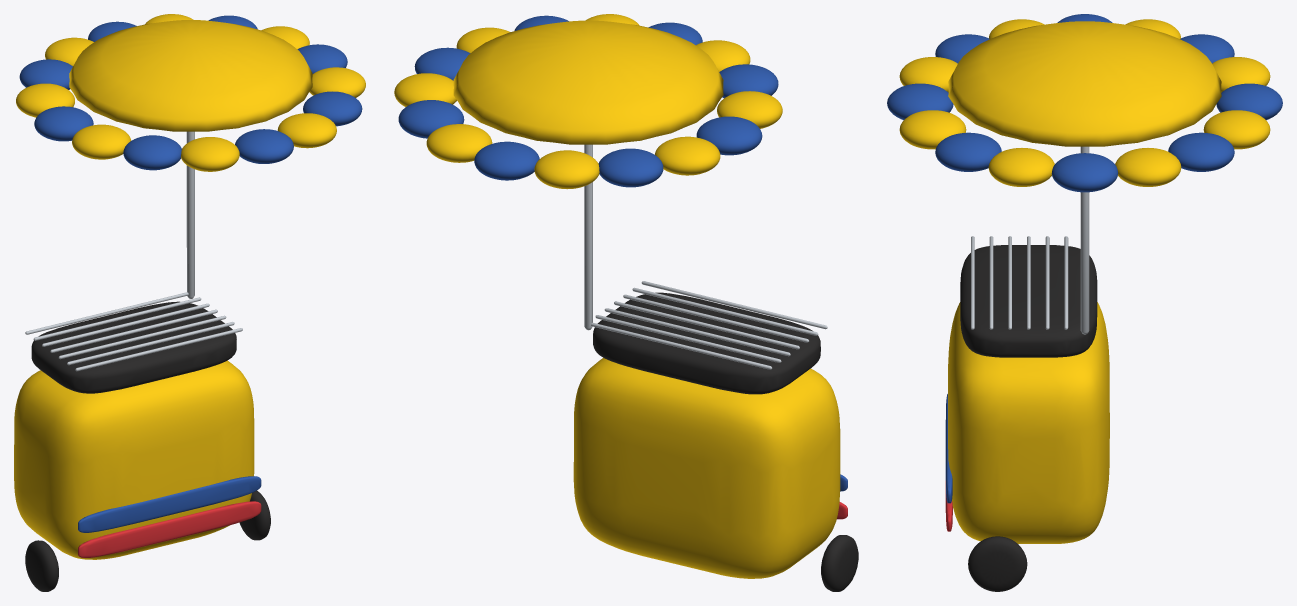
Rendered from vitrina_arepas_1.glb.
The picture shows the model from 3 angles, left to right: view 1: azimuth 30°, elevation 25°; view 2: azimuth 150°, elevation 25°; view 3: azimuth 270°, elevation 25°; orthographic projection. The views are drawn at different scales.
Parts seen in each view (by area): view 1: carrito.001, parasol.001, asador, franja roja, franja azul, festón parasol.027, festón parasol.026, festón parasol.028, festón parasol.025, festón parasol.029, festón parasol.024, festón parasol.030 (+17 smaller); view 2: carrito.001, parasol.001, asador, festón parasol.021, festón parasol.022, festón parasol.020, festón parasol.023, festón parasol.019, festón parasol.024, festón parasol.018, festón parasol.025, rueda.002 (+14 smaller); view 3: carrito.001, parasol.001, asador, rueda.003, festón parasol.016, festón parasol.017, festón parasol.031, festón parasol.018, festón parasol.030, festón parasol.019, festón parasol.029, festón parasol.020 (+6 smaller).
Boxes of the visible parts, x1=… form: carrito.001: x1=14, y1=360, x2=254, y2=559; parasol.001: x1=69, y1=20, x2=312, y2=131; asador: x1=31, y1=301, x2=236, y2=393; franja roja: x1=78, y1=501, x2=261, y2=557; franja azul: x1=78, y1=476, x2=261, y2=532; festón parasol.027: x1=181, y1=137, x2=239, y2=171; festón parasol.026: x1=123, y1=135, x2=181, y2=170; festón parasol.028: x1=235, y1=129, x2=293, y2=163; festón parasol.025: x1=72, y1=124, x2=131, y2=159; festón parasol.029: x1=277, y1=113, x2=336, y2=148; festón parasol.024: x1=34, y1=106, x2=93, y2=141; festón parasol.030: x1=303, y1=91, x2=362, y2=126; carrito.001: x1=573, y1=358, x2=840, y2=578; parasol.001: x1=453, y1=20, x2=723, y2=144; asador: x1=593, y1=292, x2=820, y2=394; festón parasol.021: x1=534, y1=150, x2=599, y2=189; festón parasol.022: x1=598, y1=148, x2=663, y2=187; festón parasol.020: x1=474, y1=141, x2=539, y2=180; festón parasol.023: x1=655, y1=136, x2=720, y2=175; festón parasol.019: x1=426, y1=124, x2=492, y2=162; festón parasol.024: x1=696, y1=116, x2=762, y2=155; festón parasol.018: x1=398, y1=100, x2=464, y2=138; festón parasol.025: x1=717, y1=91, x2=782, y2=128; rueda.002: x1=821, y1=535, x2=858, y2=591; carrito.001: x1=948, y1=302, x2=1109, y2=543; parasol.001: x1=948, y1=21, x2=1221, y2=146; asador: x1=960, y1=245, x2=1097, y2=357; rueda.003: x1=968, y1=536, x2=1027, y2=591; festón parasol.016: x1=1051, y1=153, x2=1118, y2=192; festón parasol.017: x1=1115, y1=148, x2=1181, y2=186; festón parasol.031: x1=988, y1=148, x2=1054, y2=186; festón parasol.018: x1=1168, y1=132, x2=1234, y2=171; festón parasol.030: x1=935, y1=132, x2=1001, y2=171; festón parasol.019: x1=1203, y1=110, x2=1270, y2=149; festón parasol.029: x1=899, y1=110, x2=966, y2=149; festón parasol.020: x1=1216, y1=83, x2=1282, y2=120.
Bounding box in the file's own units: 1.45 × 1.9 × 1.27.
